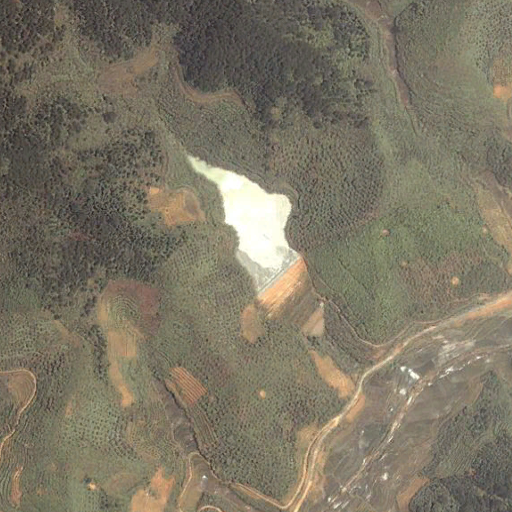tp: (186, 153, 326, 340)
